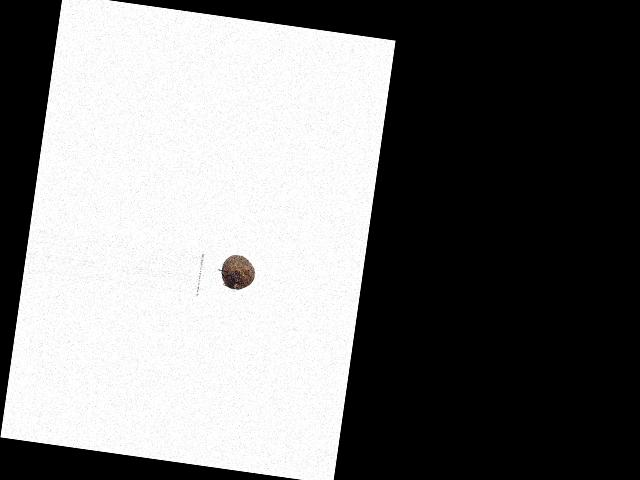beet: (219, 252, 256, 290)
